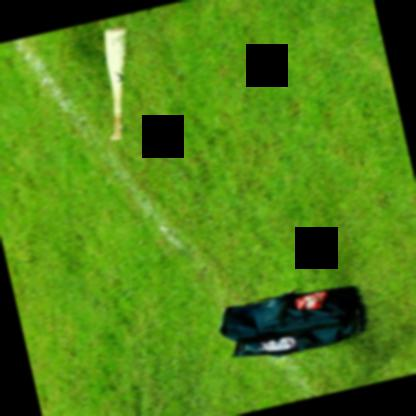backpack: (218, 283, 363, 357)
handbag: (221, 284, 365, 357)
